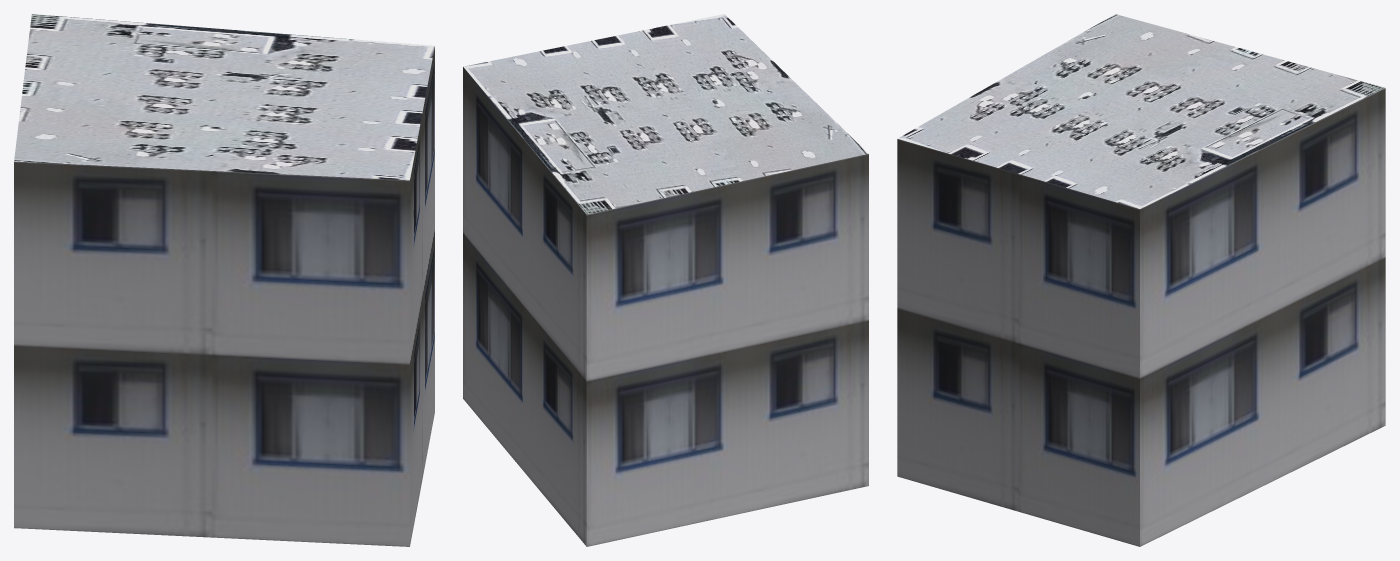
Rendered from ResTex__554.fbx.
3 renders of one model, left to right at view 1: azimuth 30°, elevation 25°; view 2: azimuth 150°, elevation 25°; view 3: azimuth 270°, elevation 25°, orthographic. The views are drawn at different scales.
Parts seen in each view (by area): view 1: CityEngineMaterial_9_m, CityEngineMaterial_8_m; view 2: CityEngineMaterial_9_m, CityEngineMaterial_8_m; view 3: CityEngineMaterial_9_m, CityEngineMaterial_8_m.
Part boxes in pixels (x1,y1,x2,y2): CityEngineMaterial_9_m: [14, 47, 434, 546]; CityEngineMaterial_8_m: [14, 14, 434, 180]; CityEngineMaterial_9_m: [463, 67, 868, 546]; CityEngineMaterial_8_m: [463, 14, 868, 214]; CityEngineMaterial_9_m: [897, 88, 1385, 546]; CityEngineMaterial_8_m: [897, 14, 1384, 208].
Bounding box in the file's own units: 7.44 × 6 × 7.86.
2 materials, 2 textured.
